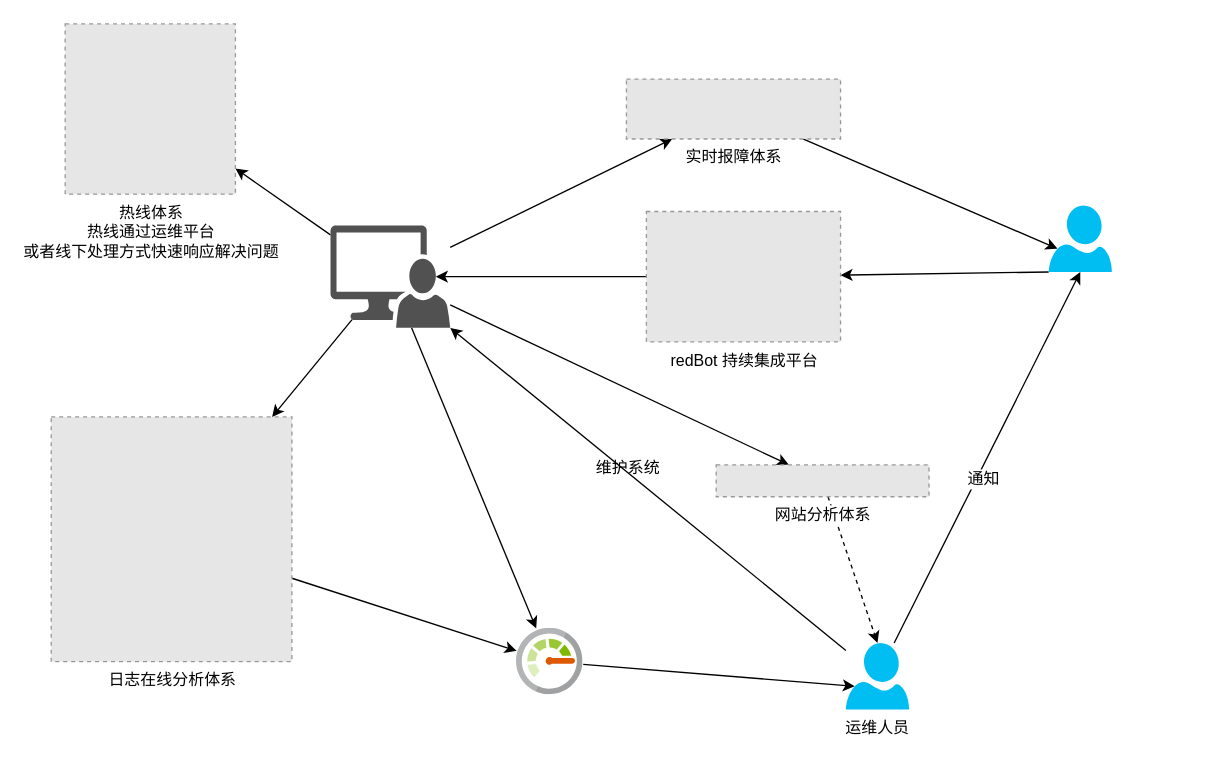
This 1232x759 diagram has some shape labels left out. Grey dashed boxes stand in for pictures. Here are the shapes that lost their labels. From the top down, the centre of each, then its label:
(1079,238): 开发及运维人员快速定位及解决问题
(390,276): 金二系统前后端
(549,661): YYJK 企业级监控预警平台
